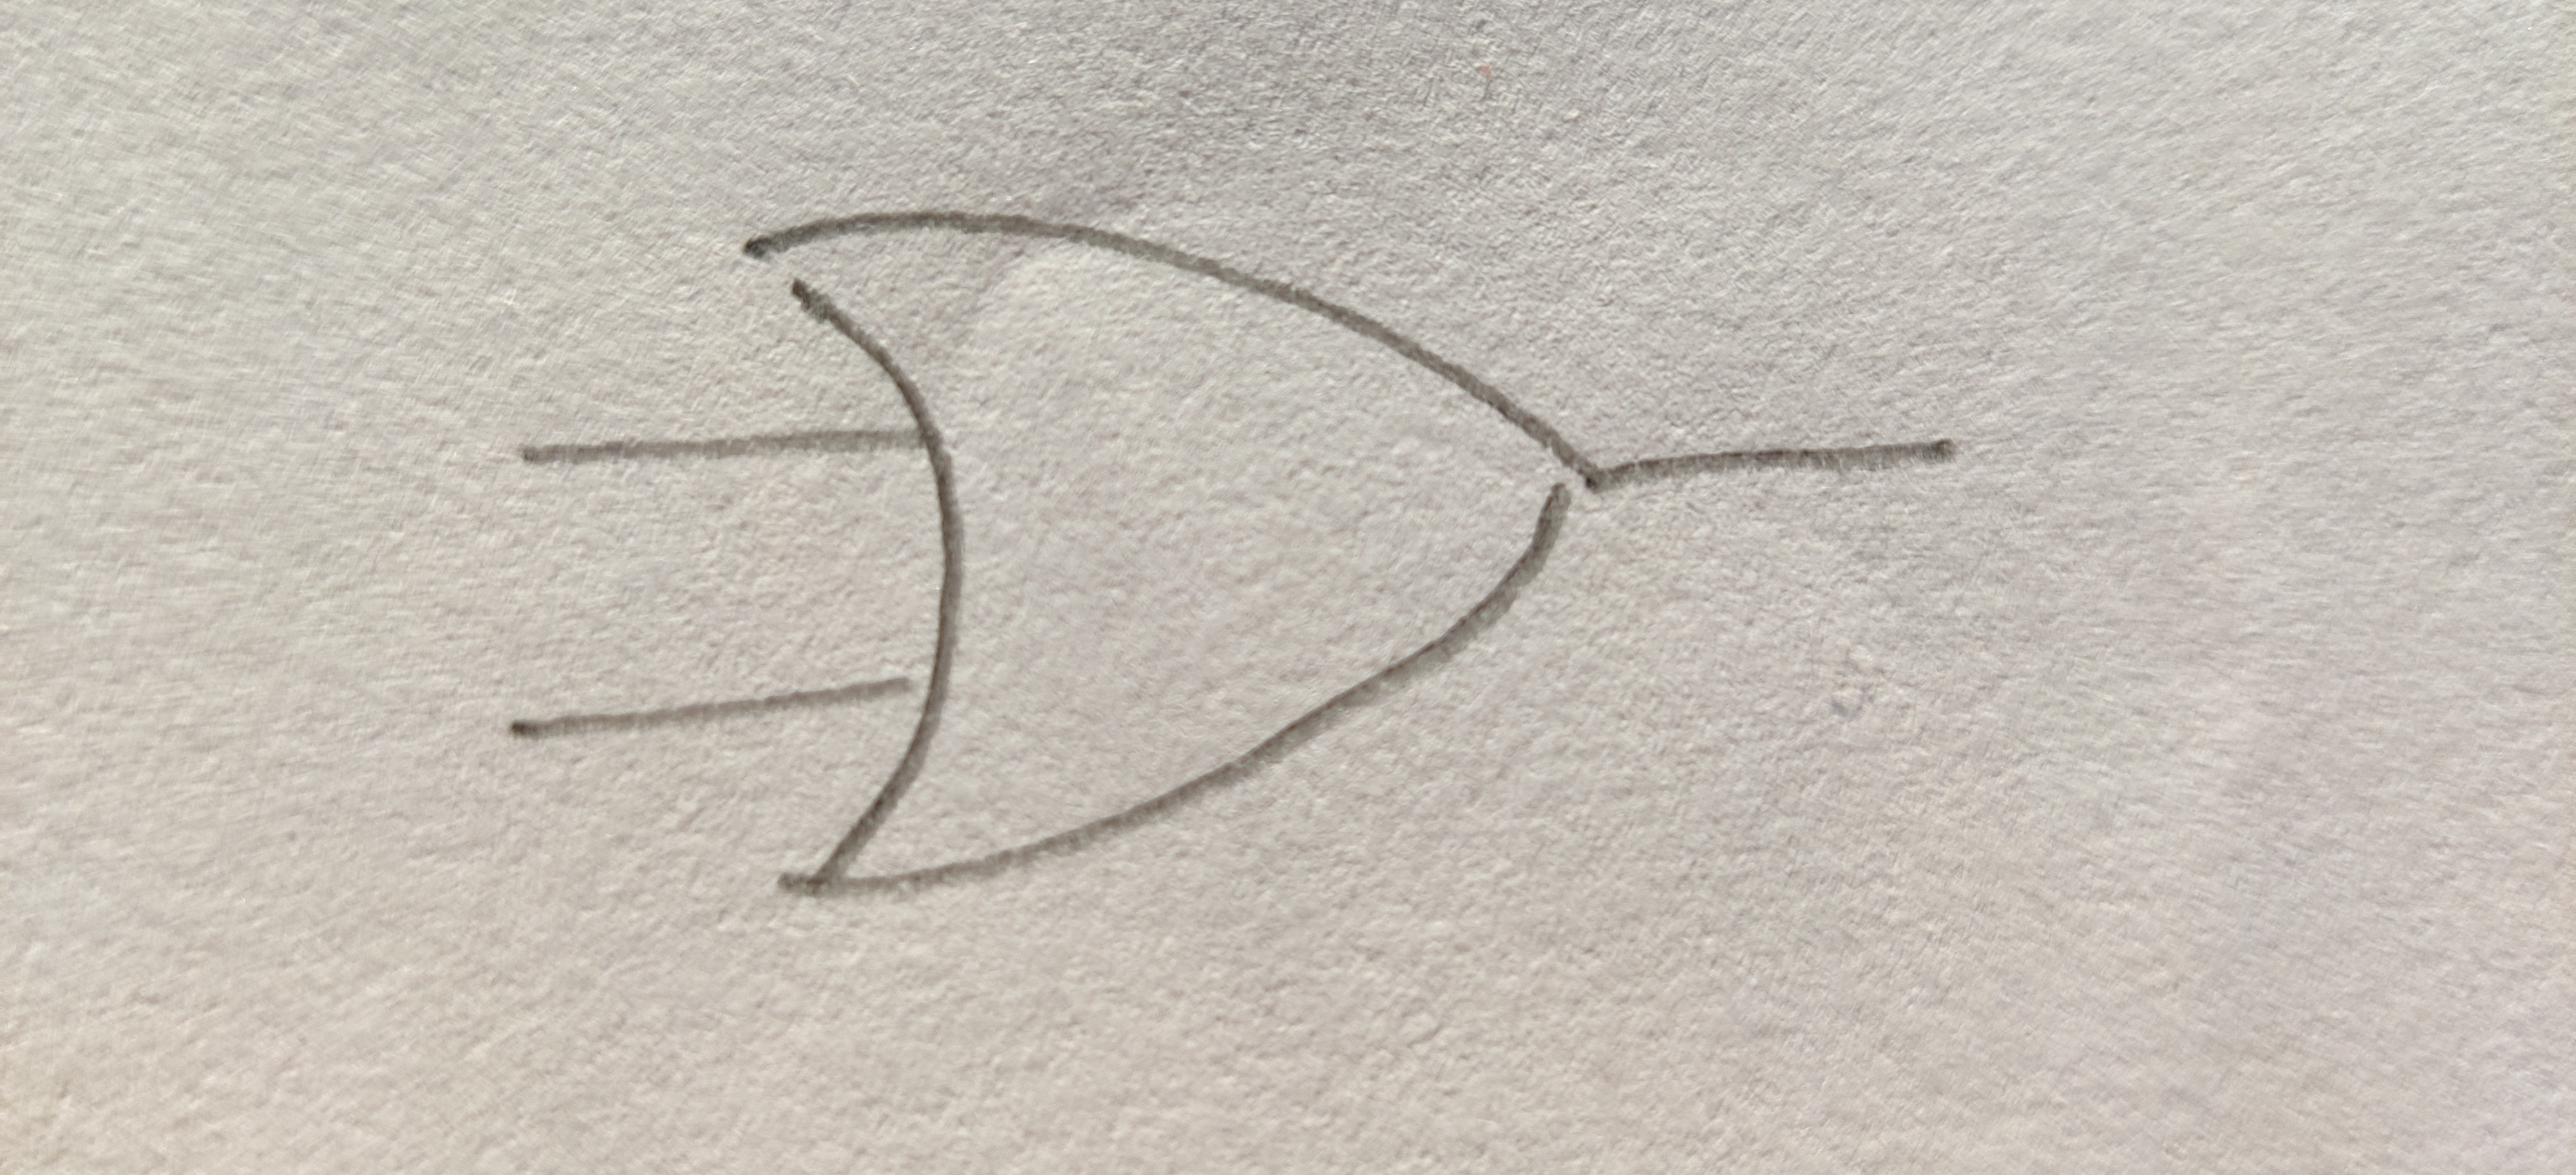or: (754, 212, 1602, 897)
